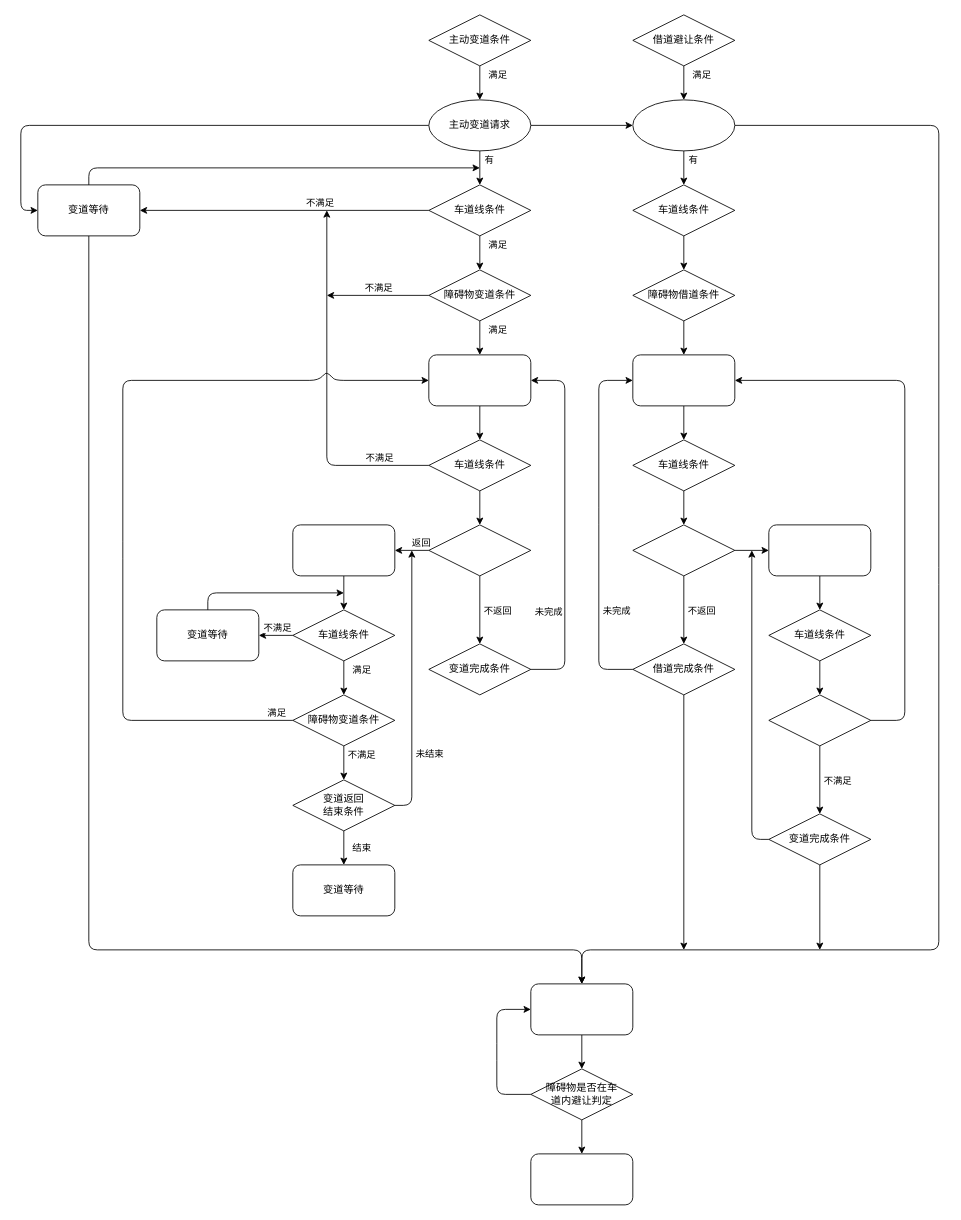
This 961x1220 diagram has some shape labels left out. Each missing label, with the centre of its shape:
借道执行: point 683,380
借道返回: point 819,550
借道避让请求: point 683,125
变道执行: point 479,380
变道返回: point 343,550
车道保持: point 581,1009
车道内避让: point 581,1179
障碍物借道 条件: point 819,720
障碍物借道 返回条件: point 683,550
障碍物变道 返回条件: point 479,550
